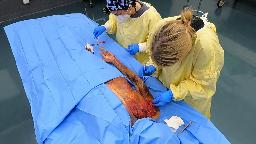scalpel: (142, 62, 144, 86)
